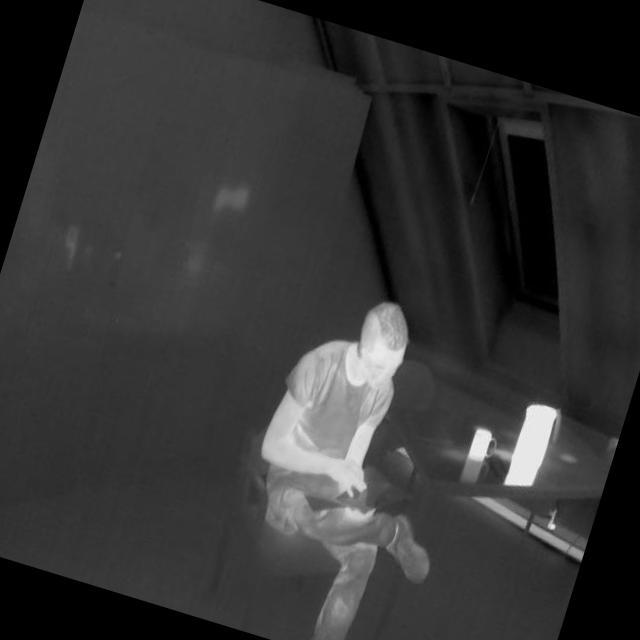person: (204, 274, 505, 640)
